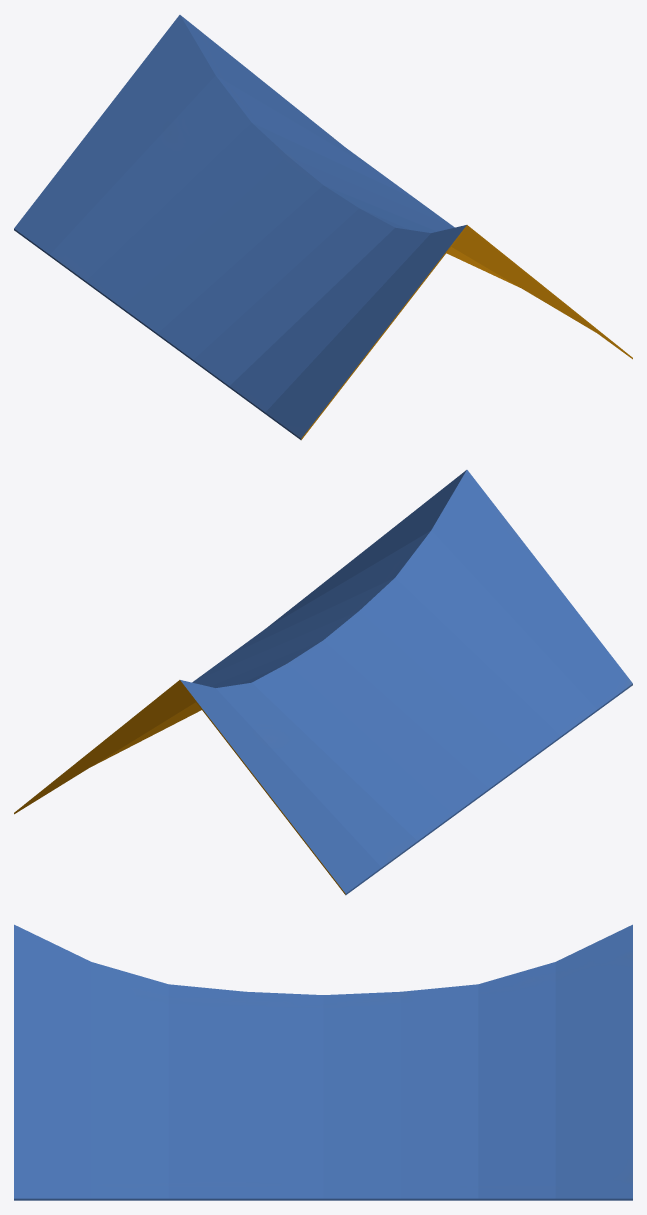
The model's file is tent.glb.
3 renders of one model, top to bottom at view 1: azimuth 30°, elevation 25°; view 2: azimuth 150°, elevation 25°; view 3: azimuth 270°, elevation 25°, orthographic. The views are drawn at different scales.
Parts seen in each view (by area): view 1: Top; view 2: Top; view 3: Top.
Part boxes in pixels (x1,y1,x2,y2): Top: [14, 15, 632, 440]; Top: [14, 470, 632, 895]; Top: [14, 924, 632, 1200].
Size of the model in its own units: 2 by 1.01 by 3.
Materials: 1 (1 with a texture image).
